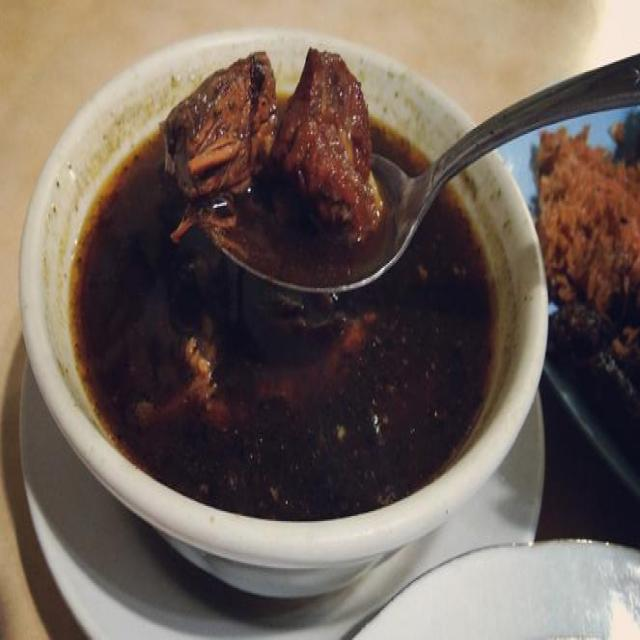Rawon: (63, 59, 501, 528)
